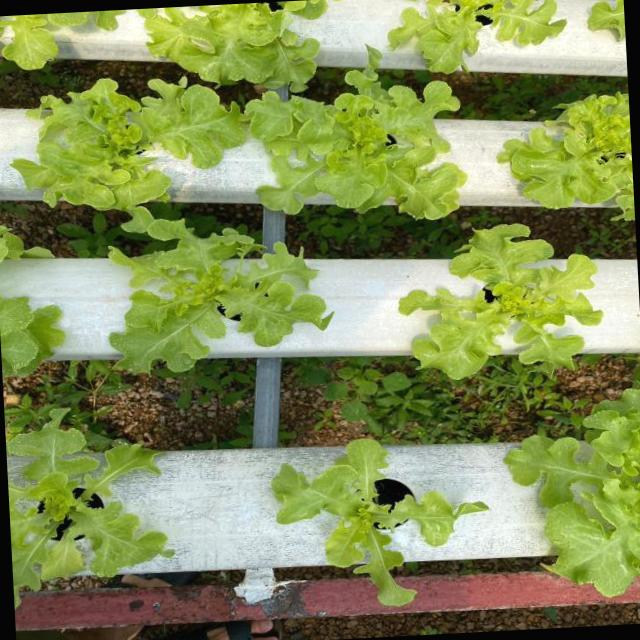Lettuce-Not-Ready-to-Harvest: (245, 51, 467, 219), (110, 207, 332, 372), (272, 440, 488, 606), (6, 409, 166, 604), (399, 226, 602, 379), (13, 78, 245, 210), (505, 388, 640, 597), (498, 94, 635, 219), (140, 0, 326, 91), (389, 0, 566, 72)
